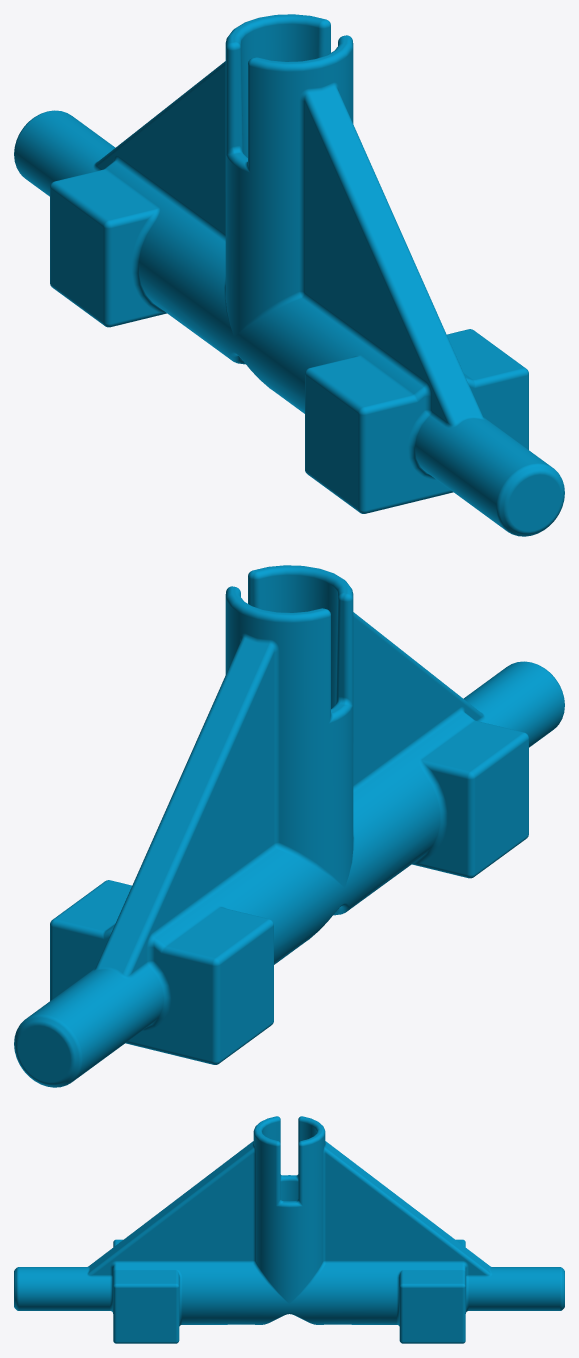
File: PIVOT AXLE.fbx
3 renders of one model, top to bottom at view 1: azimuth 30°, elevation 25°; view 2: azimuth 150°, elevation 25°; view 3: azimuth 270°, elevation 25°, orthographic. The views are drawn at different scales.
Parts seen in each view (by area): view 1: PIVOT AXLE; view 2: PIVOT AXLE; view 3: PIVOT AXLE.
Part boxes in pixels (left/top/right/bottom): PIVOT AXLE: left=14, top=14, right=564, bottom=536; PIVOT AXLE: left=14, top=565, right=564, bottom=1087; PIVOT AXLE: left=14, top=1116, right=564, bottom=1343.
Bounding box in the file's own units: 0.7937 × 1.53 × 3.97.
